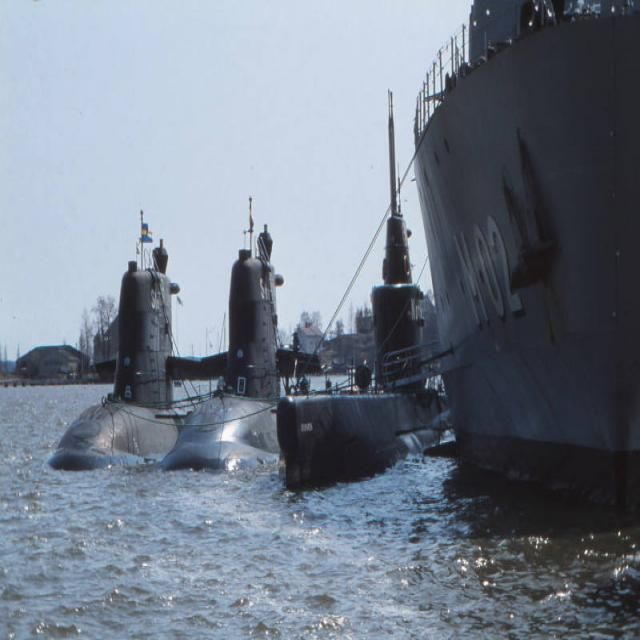submarine: (279, 167, 437, 487), (169, 229, 292, 477), (55, 253, 180, 466), (277, 480, 279, 483)
